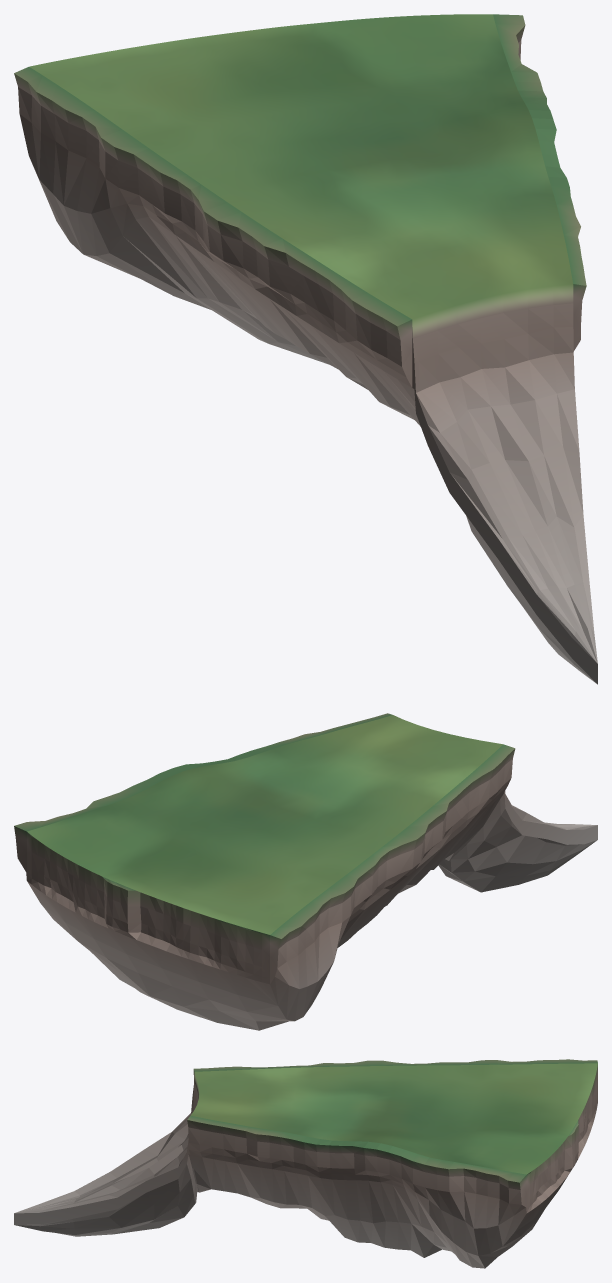
Rendered from piece_orchard.glb.
The picture shows the model from 3 angles, top to bottom: view 1: azimuth 30°, elevation 25°; view 2: azimuth 150°, elevation 25°; view 3: azimuth 270°, elevation 25°; orthographic projection. The views are drawn at different scales.
Parts seen in each view (by area): view 1: piece_orchard, skirt_highland, skirt_grove; view 2: piece_orchard, skirt_highland, skirt_grove; view 3: piece_orchard, skirt_grove, skirt_highland.
Boxes of the visible parts, left/top/right/bottom form: piece_orchard: left=29, top=14, right=597, bottom=684; skirt_highland: left=14, top=67, right=412, bottom=387; skirt_grove: left=493, top=14, right=586, bottom=351; piece_orchard: left=27, top=715, right=597, bottom=1030; skirt_highland: left=270, top=744, right=515, bottom=1021; skirt_grove: left=14, top=713, right=392, bottom=880; piece_orchard: left=14, top=1063, right=597, bottom=1268; skirt_grove: left=187, top=1115, right=526, bottom=1255; skirt_highland: left=193, top=1059, right=597, bottom=1081.
Bounding box in the file's own units: 13.55 × 8.23 × 27.13.
